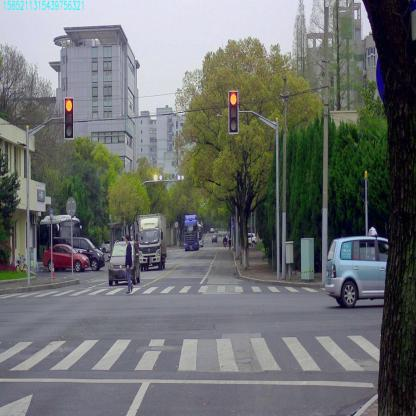traffic-light: (228, 91, 238, 134), (65, 98, 73, 138)
